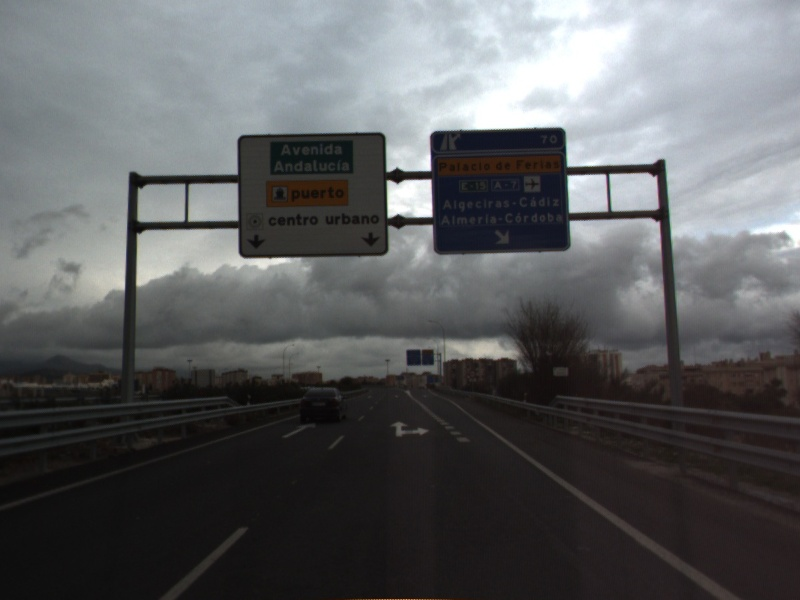STRAIGHT: (279, 420, 319, 440)
STRAIGHT_RIGHT: (388, 419, 432, 439)
